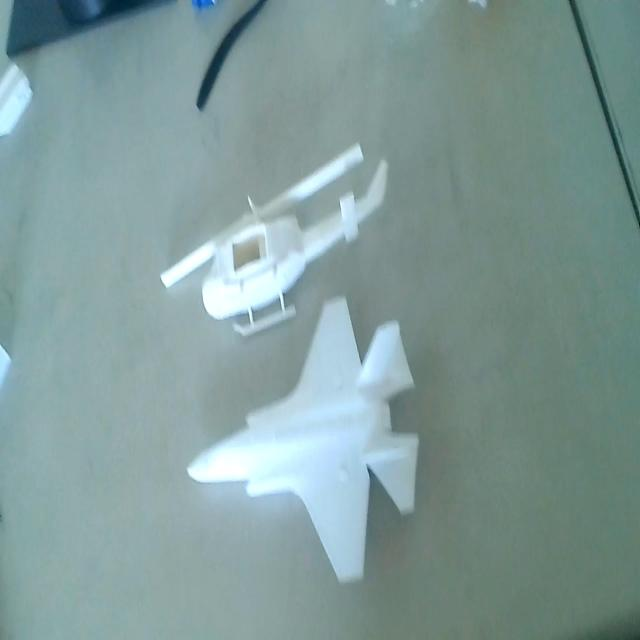Helicopter: (160, 137, 392, 339)
Jet: (182, 300, 420, 578)
